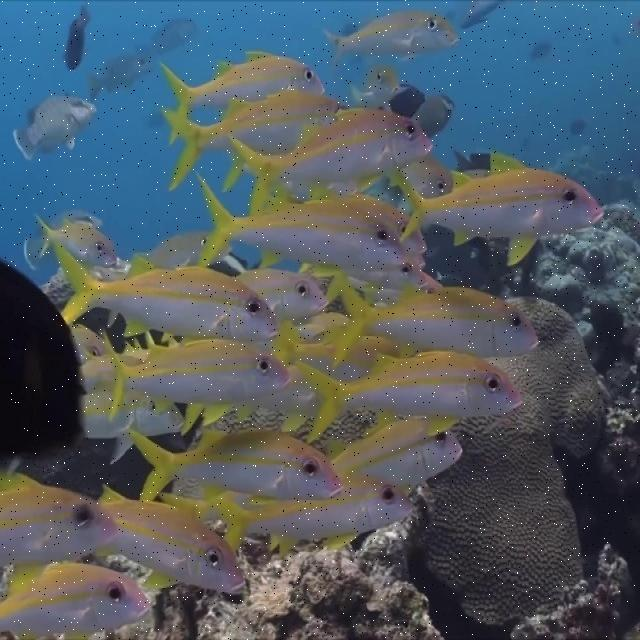fish: (392, 150, 604, 264), (55, 239, 280, 341), (196, 173, 426, 270), (228, 107, 433, 215), (297, 350, 522, 439), (333, 269, 539, 366), (104, 331, 293, 430), (92, 483, 244, 593), (128, 424, 345, 501), (160, 51, 324, 144), (0, 562, 150, 638), (1, 470, 116, 568), (323, 9, 458, 62)
